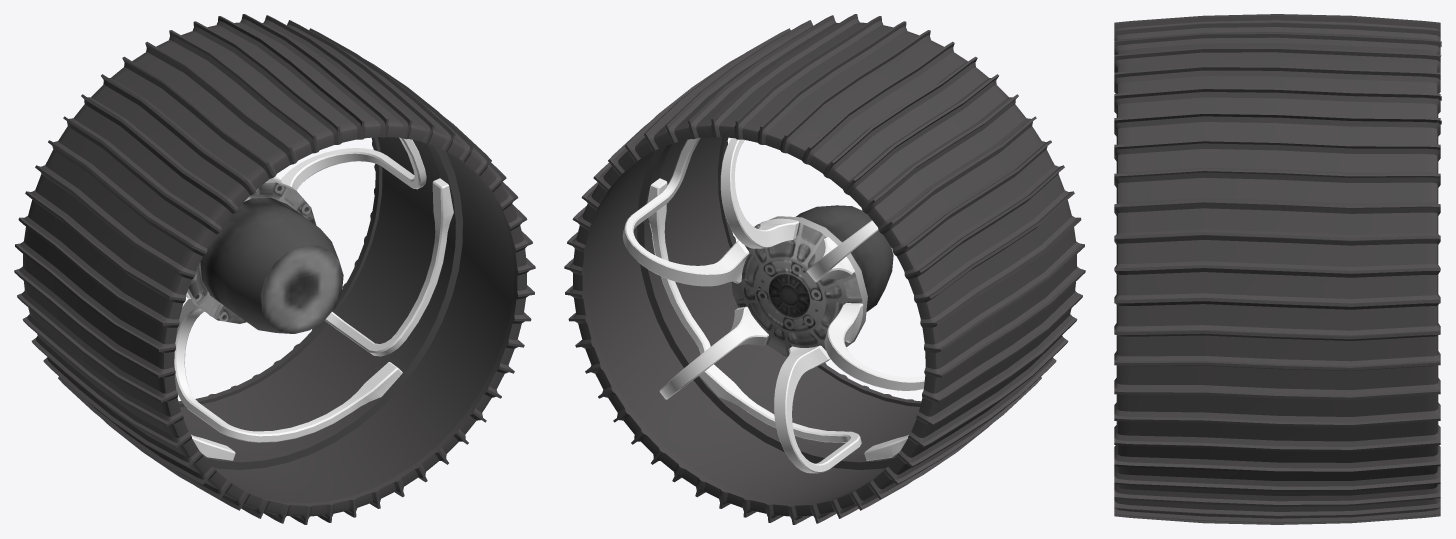
File: wheel_left.glb
The picture shows the model from 3 angles, left to right: view 1: azimuth 30°, elevation 25°; view 2: azimuth 150°, elevation 25°; view 3: azimuth 270°, elevation 25°; orthographic projection. The views are drawn at different scales.
Parts seen in each view (by area): view 1: Wheels_objs.003; view 2: Wheels_objs.003; view 3: Wheels_objs.003.
Boxes of the visible parts, x1=… form: Wheels_objs.003: x1=14, y1=14, x2=535, y2=524; Wheels_objs.003: x1=564, y1=14, x2=1085, y2=524; Wheels_objs.003: x1=1114, y1=14, x2=1441, y2=524.
Size of the model in its own units: 0.5254 by 0.5254 by 0.3366.
3 materials, 1 textured.
